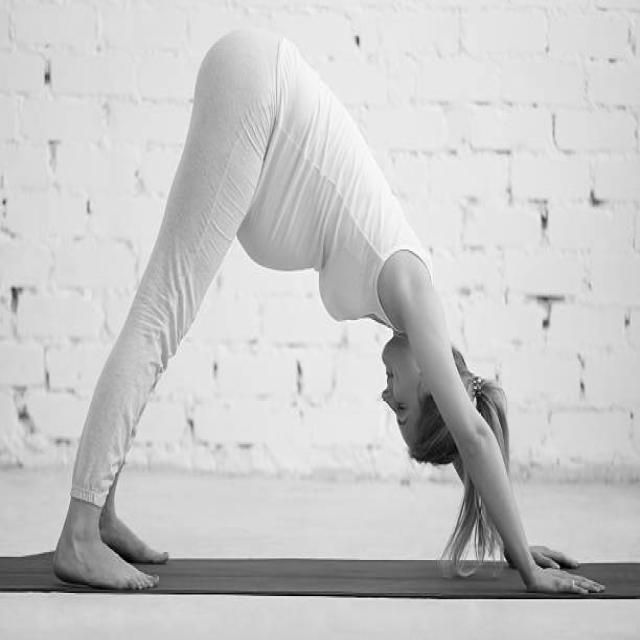Downward-Facing_Dog: (50, 20, 607, 603)
